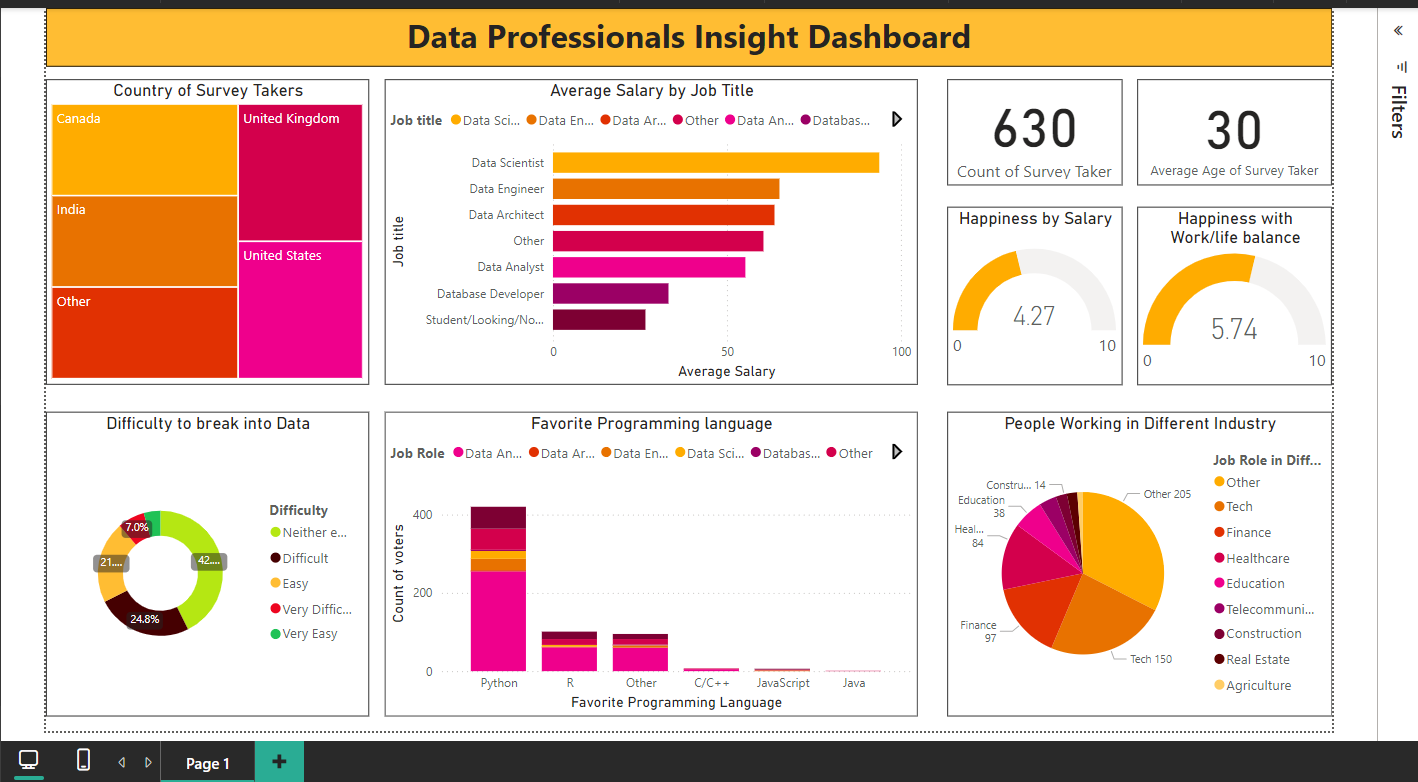

This screenshot's page, from the dashboard's own definition file:
{"tool":"powerbi","page":{"name":"Page 1","canvas":[1280,720],"ordinal":0},"visuals":[{"type":"textbox","box":[0,0,1280,58.5],"z":0},{"type":"card","fields":{"Values":["CountNonNull(Data Professional Survey.Unique ID)"]},"box":[896.9,71.2,174.2,105.5],"z":1000},{"type":"card","fields":{"Values":["Avg(Data Professional Survey.Q10 - Current Age)"]},"box":[1085.9,71.2,193.9,105.5],"z":2000},{"type":"barChart","title":"Average Salary by Job Title","fields":{"Category":["Data Professional Survey.Q1 - Which Title Best Fits your Current Role?.1"],"Y":["Avg(Data Professional Survey.Average Salary)"],"Series":["Data Professional Survey.Q1 - Which Title Best Fits your Current Role?.1"]},"box":[337.4,71.2,530.1,304.3],"z":3000},{"type":"columnChart","title":"Favorite Programming language","fields":{"Category":["Data Professional Survey.Q5 - Favorite Programming Language.1"],"Y":["CountNonNull(Data Professional Survey.Unique ID)"],"Series":["Data Professional Survey.Q1 - Which Title Best Fits your Current Role?.1"]},"box":[337.4,401.2,530.1,303.1],"z":4000},{"type":"treemap","title":"Country of Survey Takers","fields":{"Group":["Data Professional Survey.Q11 - Which Country do you live in?.1"],"Values":["Count(Data Professional Survey.Q11 - Which Country do you live in?.1)"]},"box":[0,71.2,321.5,304.3],"z":5000},{"type":"gauge","title":"Happiness with Work/life balance","fields":{"Y":["Avg(Data Professional Survey.Q6 - How Happy are you in your Current Position with the following? (Work/Life Balance))"],"MinValue":["Min(Data Professional Survey.Q6 - How Happy are you in your Current Position with the following? (Work/Life Balance))"],"MaxValue":["Max(Data Professional Survey.Q6 - How Happy are you in your Current Position with the following? (Work/Life Balance))"]},"box":[1085.9,197.5,193.9,177.9],"z":6000},{"type":"gauge","title":"Happiness by Salary","fields":{"Y":["Avg(Data Professional Survey.Q6 - How Happy are you in your Current Position with the following? (Salary))"],"MinValue":["Min(Data Professional Survey.Q6 - How Happy are you in your Current Position with the following? (Salary))"],"MaxValue":["Max(Data Professional Survey.Q6 - How Happy are you in your Current Position with the following? (Salary))"]},"box":[896.9,197.5,174.2,177.9],"z":7000},{"type":"donutChart","title":"Difficulty to break into Data","fields":{"Category":["Data Professional Survey.Q7 - How difficult was it for you to break into Data?"],"Y":["CountNonNull(Data Professional Survey.Q7 - How difficult was it for you to break into Data?)"]},"box":[0,401.2,321.5,303.1],"z":8000},{"type":"pieChart","title":"People Working in Different Industry ","fields":{"Category":["Data Professional Survey.Q4 - What Industry do you work in?.1"],"Y":["CountNonNull(Data Professional Survey.Unique ID)"]},"box":[896.9,401.2,382.8,303.1],"z":9000}]}

Visuals, with their boxes on the page's 1280x720 design canvas (x1, y1, x2, y2). These are canvas units, not pixel positions in the 1418x782 screenshot, which may show the page scaled, cropped or inside an application window:
textbox: BBox(0, 0, 1280, 58)
card - CountNonNull(Data Professional Survey.Unique ID): BBox(897, 71, 1071, 177)
card - Avg(Data Professional Survey.Q10 - Current Age): BBox(1086, 71, 1280, 177)
"Average Salary by Job Title" barChart: BBox(337, 71, 868, 376)
"Favorite Programming language" columnChart: BBox(337, 401, 868, 704)
"Country of Survey Takers" treemap: BBox(0, 71, 322, 376)
"Happiness with Work/life balance" gauge: BBox(1086, 198, 1280, 375)
"Happiness by Salary" gauge: BBox(897, 198, 1071, 375)
"Difficulty to break into Data" donutChart: BBox(0, 401, 322, 704)
"People Working in Different Industry " pieChart: BBox(897, 401, 1280, 704)
